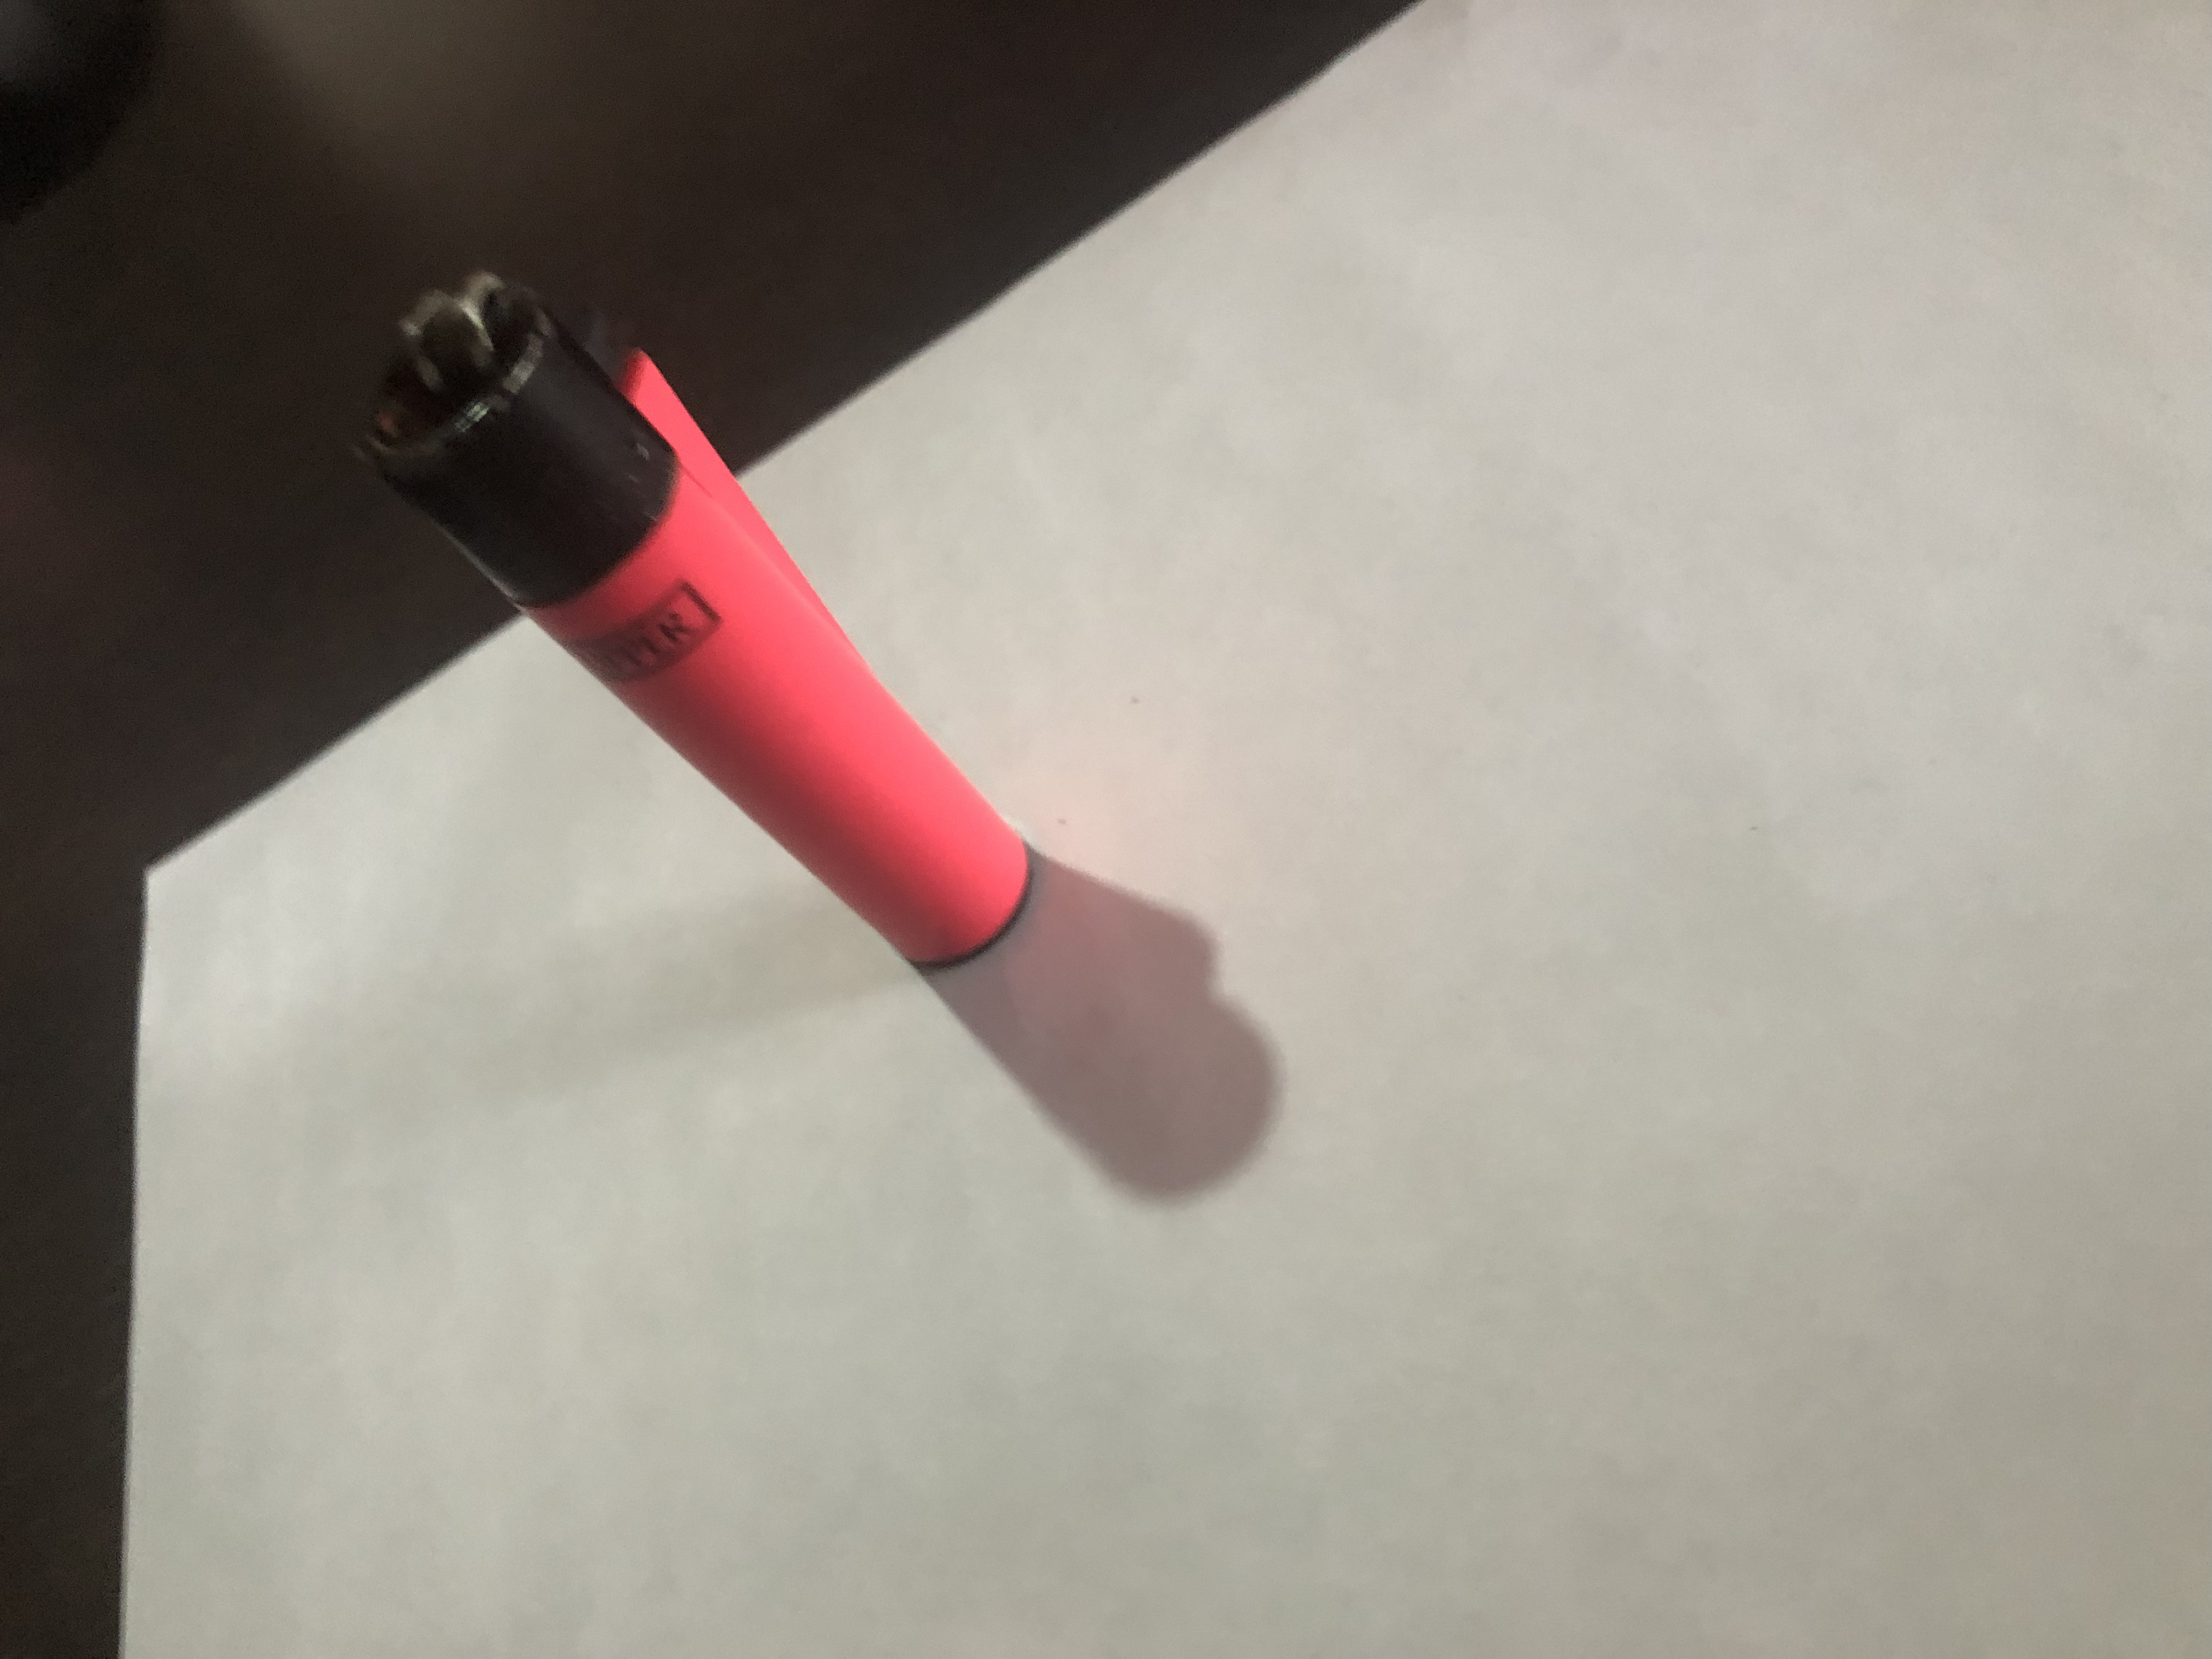Mechero: (350, 274, 1040, 969)
